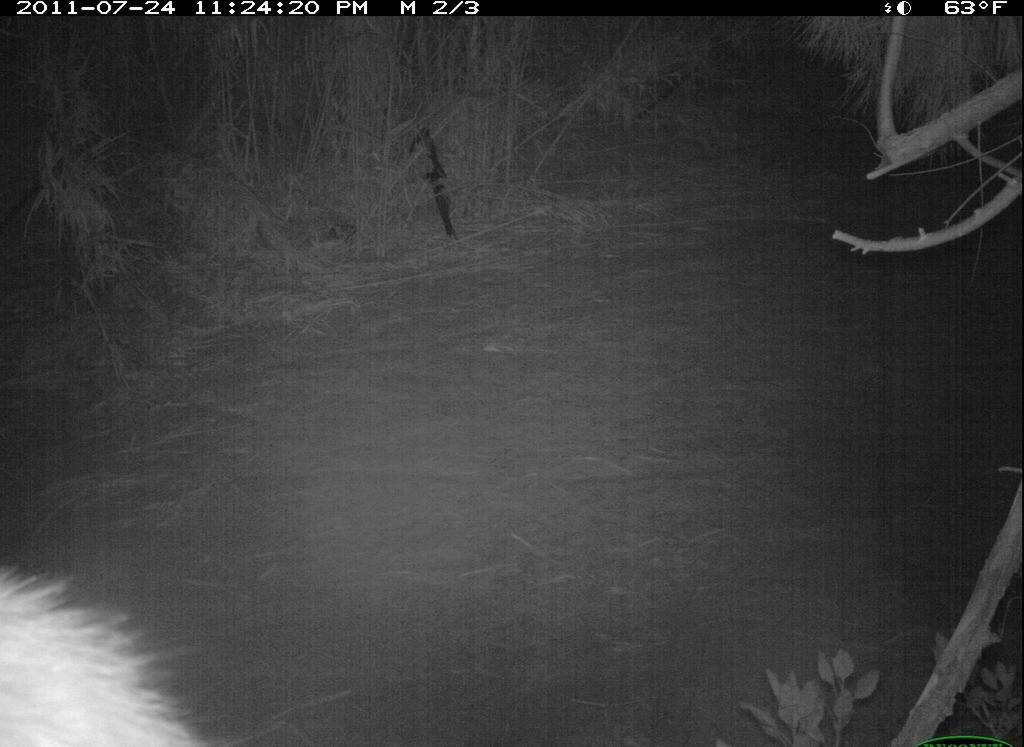raccoon: (3, 546, 216, 747)
